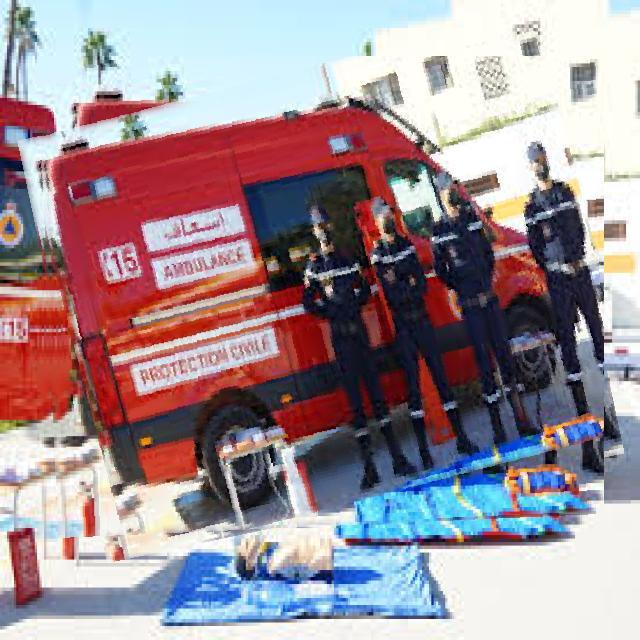ambulance: (37, 56, 604, 538)
